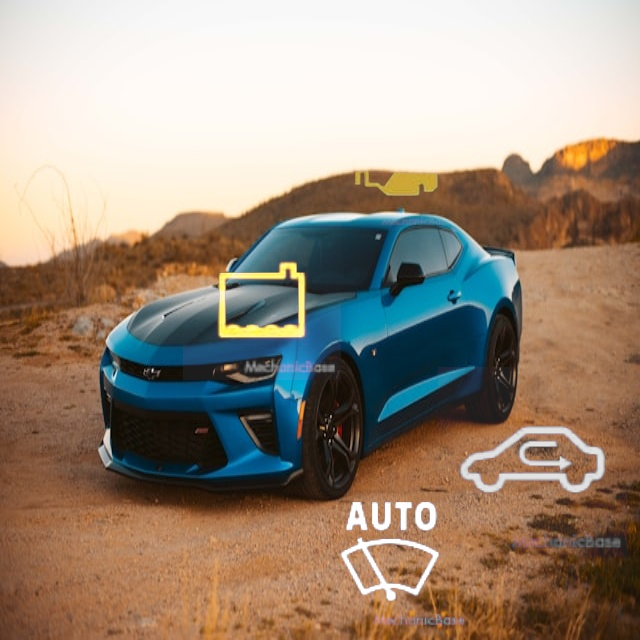symbol: (438, 367, 628, 557), (311, 473, 471, 633), (183, 222, 341, 380), (335, 110, 456, 231)
